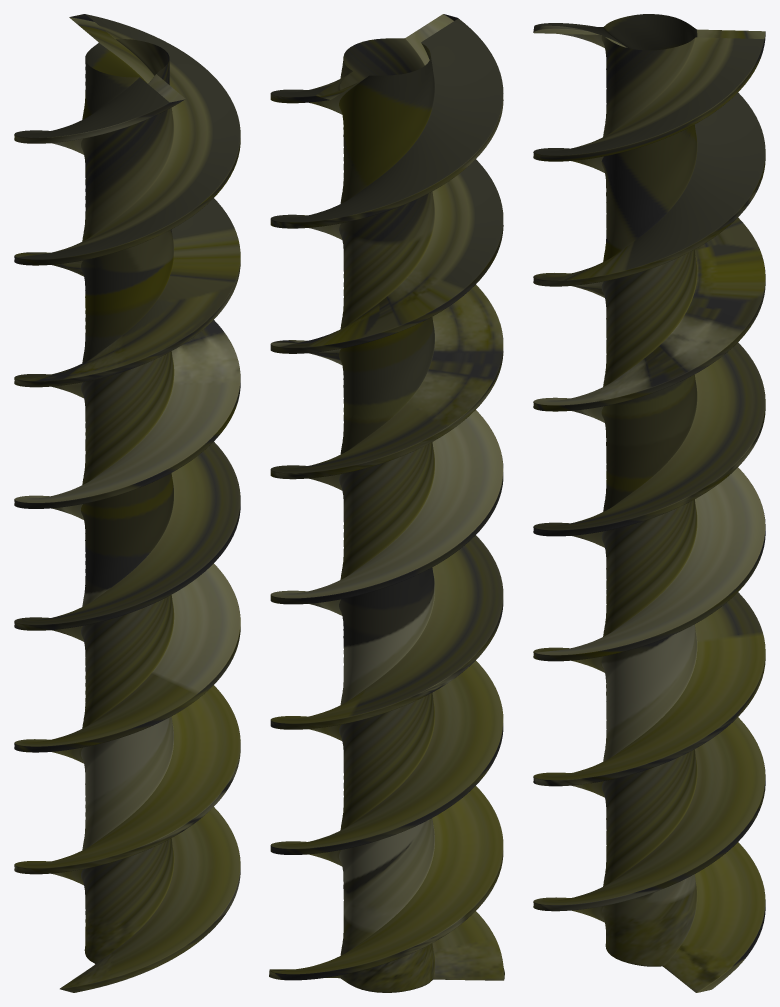
The model's file is twistgear.fbx.
3 renders of one model, left to right at view 1: azimuth 30°, elevation 25°; view 2: azimuth 150°, elevation 25°; view 3: azimuth 270°, elevation 25°, orthographic. The views are drawn at different scales.
Parts seen in each view (by area): view 1: polySurface213; view 2: polySurface213; view 3: polySurface213.
Boxes of the visible parts, left/top/right/bottom form: polySurface213: left=14, top=14, right=240, bottom=992; polySurface213: left=269, top=14, right=504, bottom=992; polySurface213: left=533, top=14, right=765, bottom=992.
Size of the model in its own units: 40.32 by 175 by 40.33.
1 material, 1 textured.
